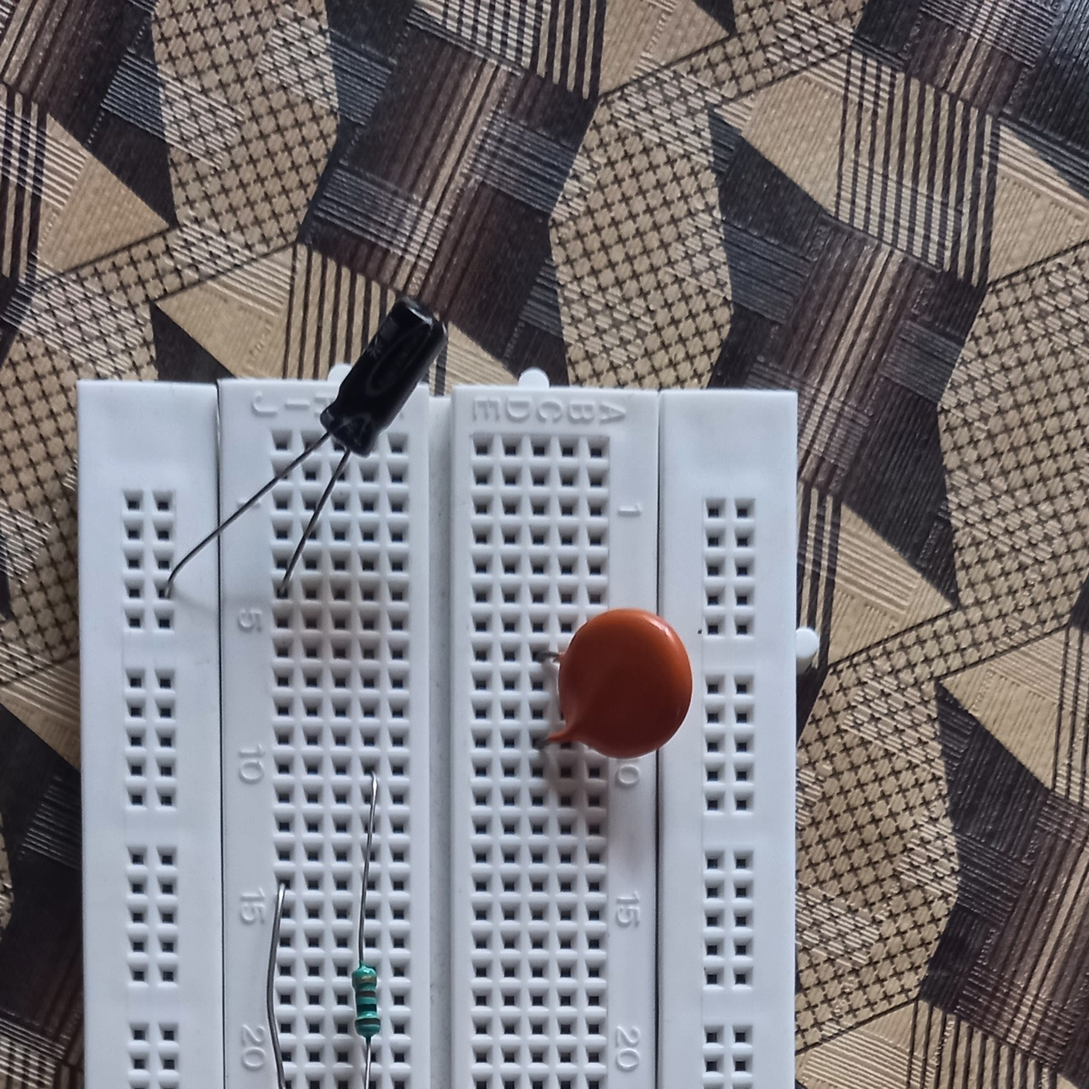capacitor: (557, 606, 697, 769), (320, 301, 457, 462)
resistor: (348, 964, 382, 1043)
